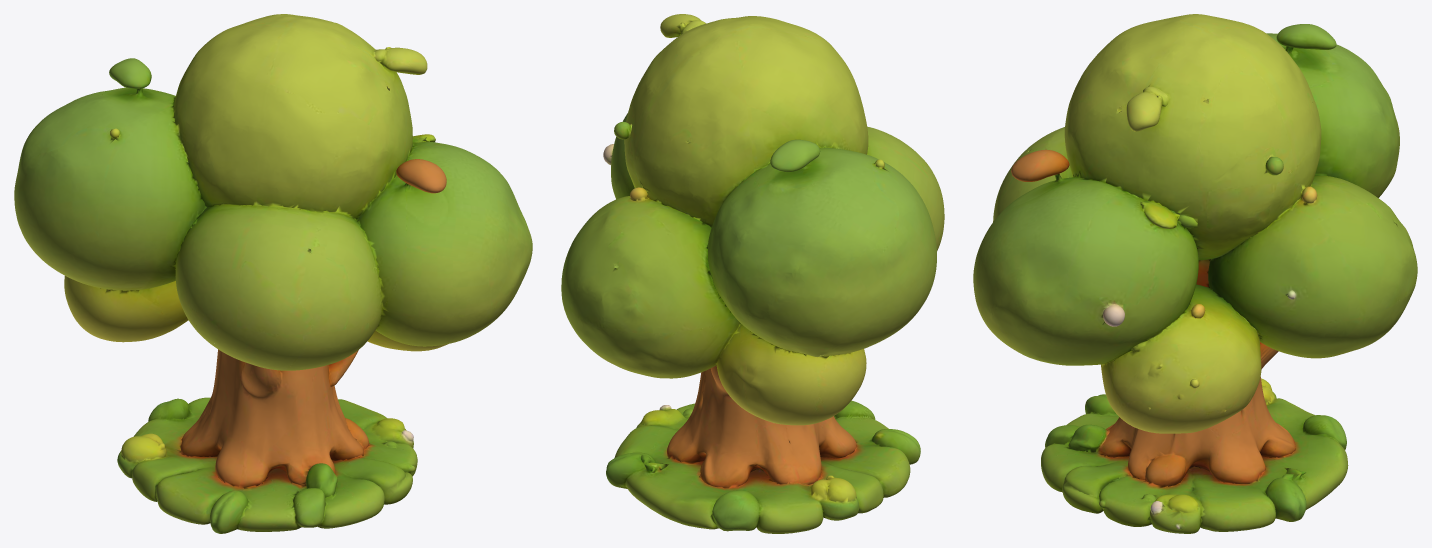
The model's file is env_nest_tree_round_01.glb.
3 views of the same model, side by side, from view 1: azimuth 30°, elevation 25°; view 2: azimuth 150°, elevation 25°; view 3: azimuth 270°, elevation 25° (orthographic). The views are drawn at different scales.
Parts seen in each view (by area): view 1: tripo_node_f725ef2b-0c65-4528-9d3b-556a56d4d4d0; view 2: tripo_node_f725ef2b-0c65-4528-9d3b-556a56d4d4d0; view 3: tripo_node_f725ef2b-0c65-4528-9d3b-556a56d4d4d0.
Boxes of the visible parts, x1,y1,x2,y2 form: tripo_node_f725ef2b-0c65-4528-9d3b-556a56d4d4d0: [14, 14, 532, 533]; tripo_node_f725ef2b-0c65-4528-9d3b-556a56d4d4d0: [561, 14, 944, 533]; tripo_node_f725ef2b-0c65-4528-9d3b-556a56d4d4d0: [973, 14, 1417, 533].
Size of the model in its own units: 3.17 by 3.4 by 2.99.
Materials: 1 (1 with a texture image).
